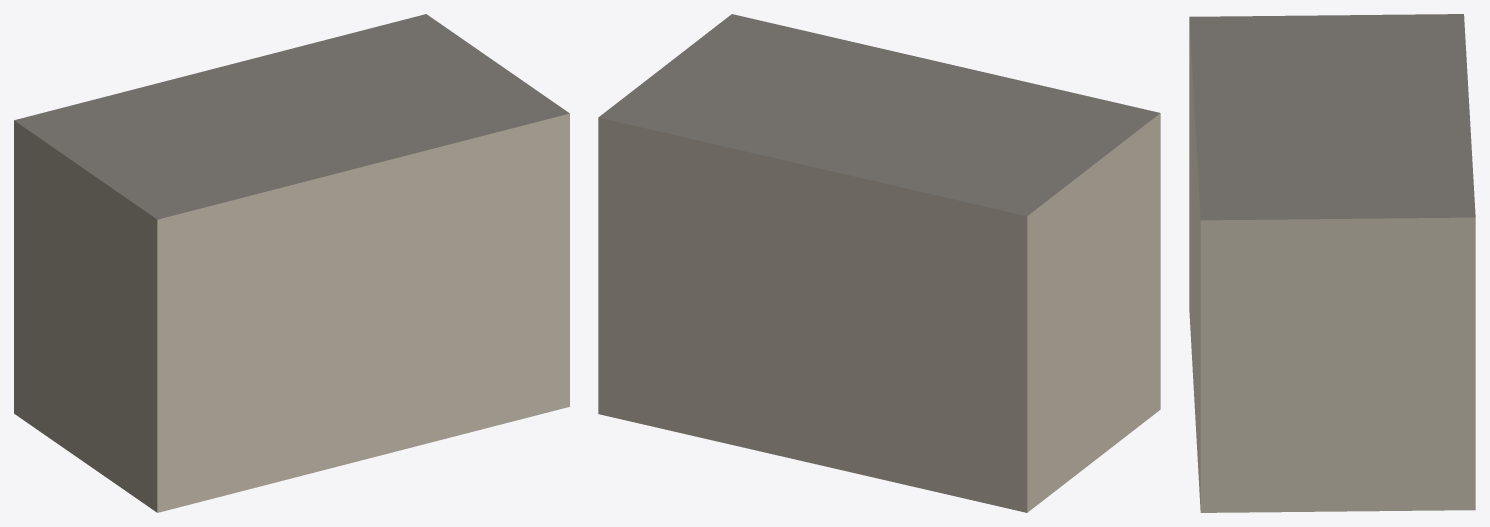
3 renders of one model, left to right at view 1: azimuth 30°, elevation 25°; view 2: azimuth 150°, elevation 25°; view 3: azimuth 270°, elevation 25°, orthographic.
Parts seen in each view (by area): view 1: HP-w1424106489; view 2: HP-w1424106489; view 3: HP-w1424106489.
Boxes of the visible parts, x1,y1,x2,y2 form: HP-w1424106489: (14, 14, 569, 512); HP-w1424106489: (598, 14, 1160, 512); HP-w1424106489: (1189, 14, 1475, 512).
Bounding box in the file's own units: 18.15 × 12 × 10.64.
